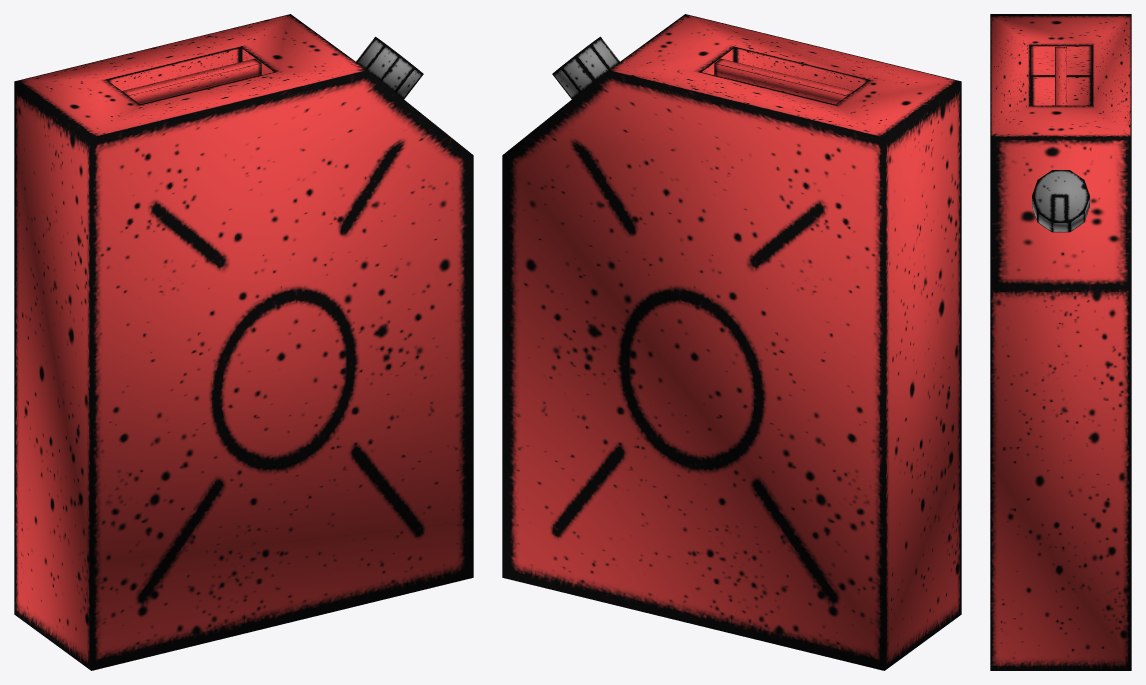
Rendered from gas_can.obj.
The picture shows the model from 3 angles, left to right: view 1: azimuth 30°, elevation 25°; view 2: azimuth 150°, elevation 25°; view 3: azimuth 270°, elevation 25°; orthographic projection. The views are drawn at different scales.
Parts seen in each view (by area): view 1: Cube, Cylinder; view 2: Cube, Cylinder; view 3: Cube, Cylinder.
Part boxes in pixels (box(x1,y1,x2,y2)): Cube: box(14, 14, 473, 670); Cylinder: box(356, 36, 423, 99); Cube: box(502, 14, 961, 670); Cylinder: box(552, 36, 619, 99); Cube: box(990, 14, 1131, 670); Cylinder: box(1032, 170, 1089, 232).
Bounding box in the file's own units: 2 × 2.66 × 0.6997.
